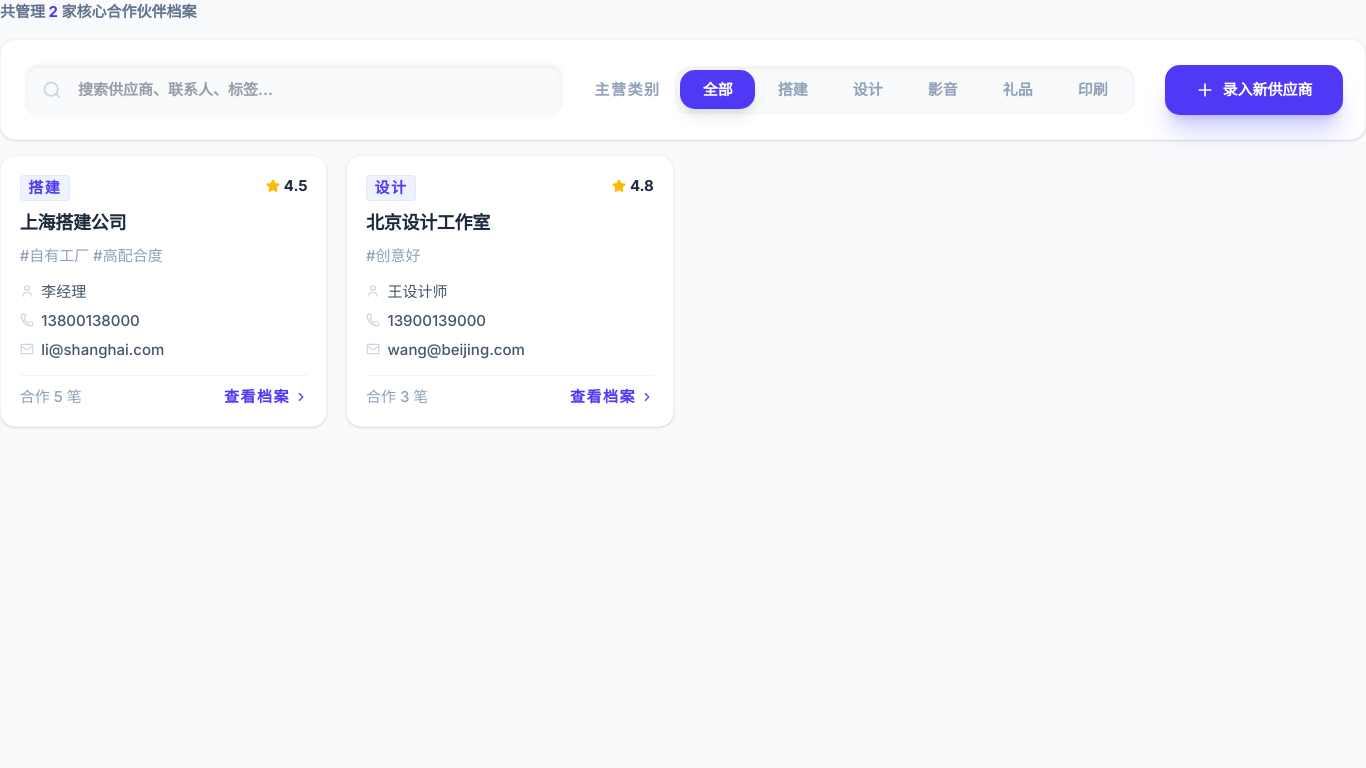
Scenario: 供应商管理页面交互测试 › 新建供应商按钮交互 › 点击新建供应商应打开表单弹窗
# Click the button (not the modal title)
Step 1. Click the button "录入新供应商" → (1254, 90), box [1165, 64, 1342, 115]
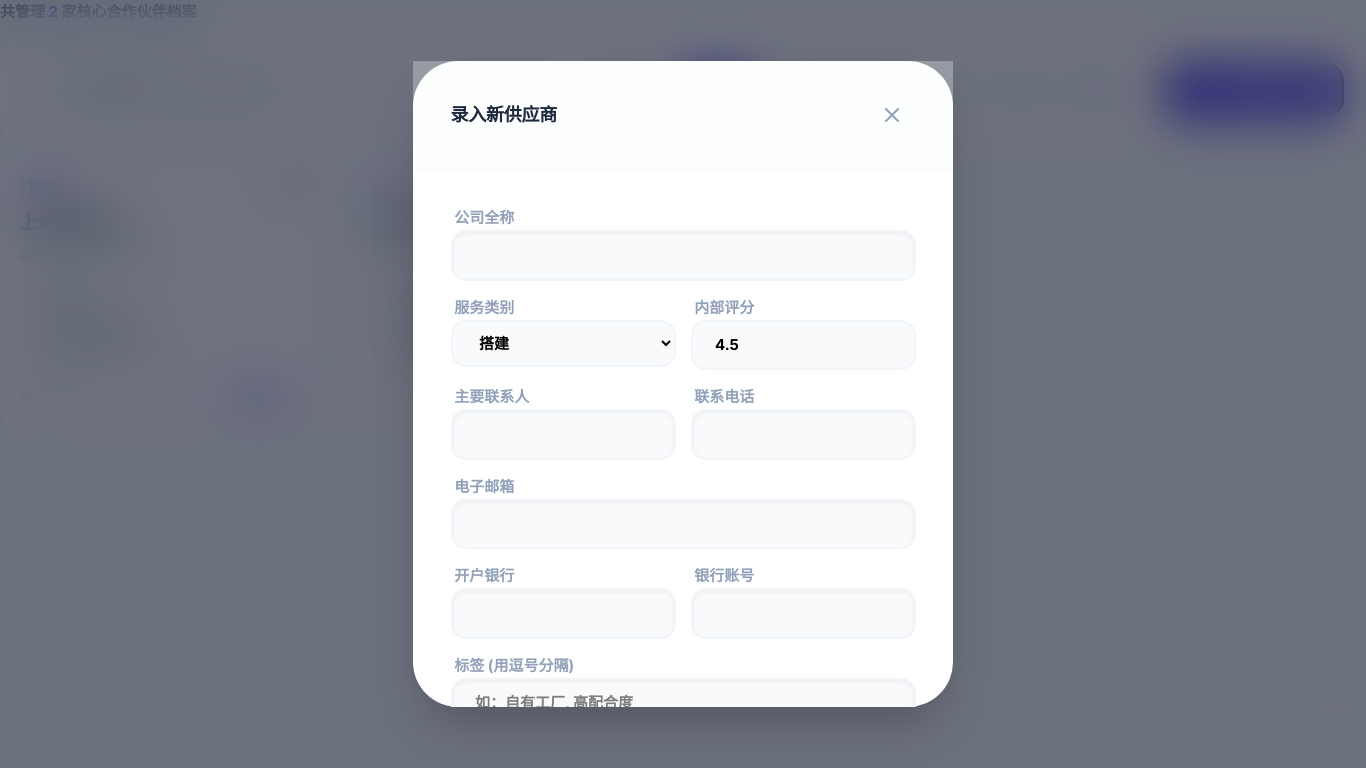
Expected: the heading "录入新供应商" is shown, [450, 103, 557, 127]
